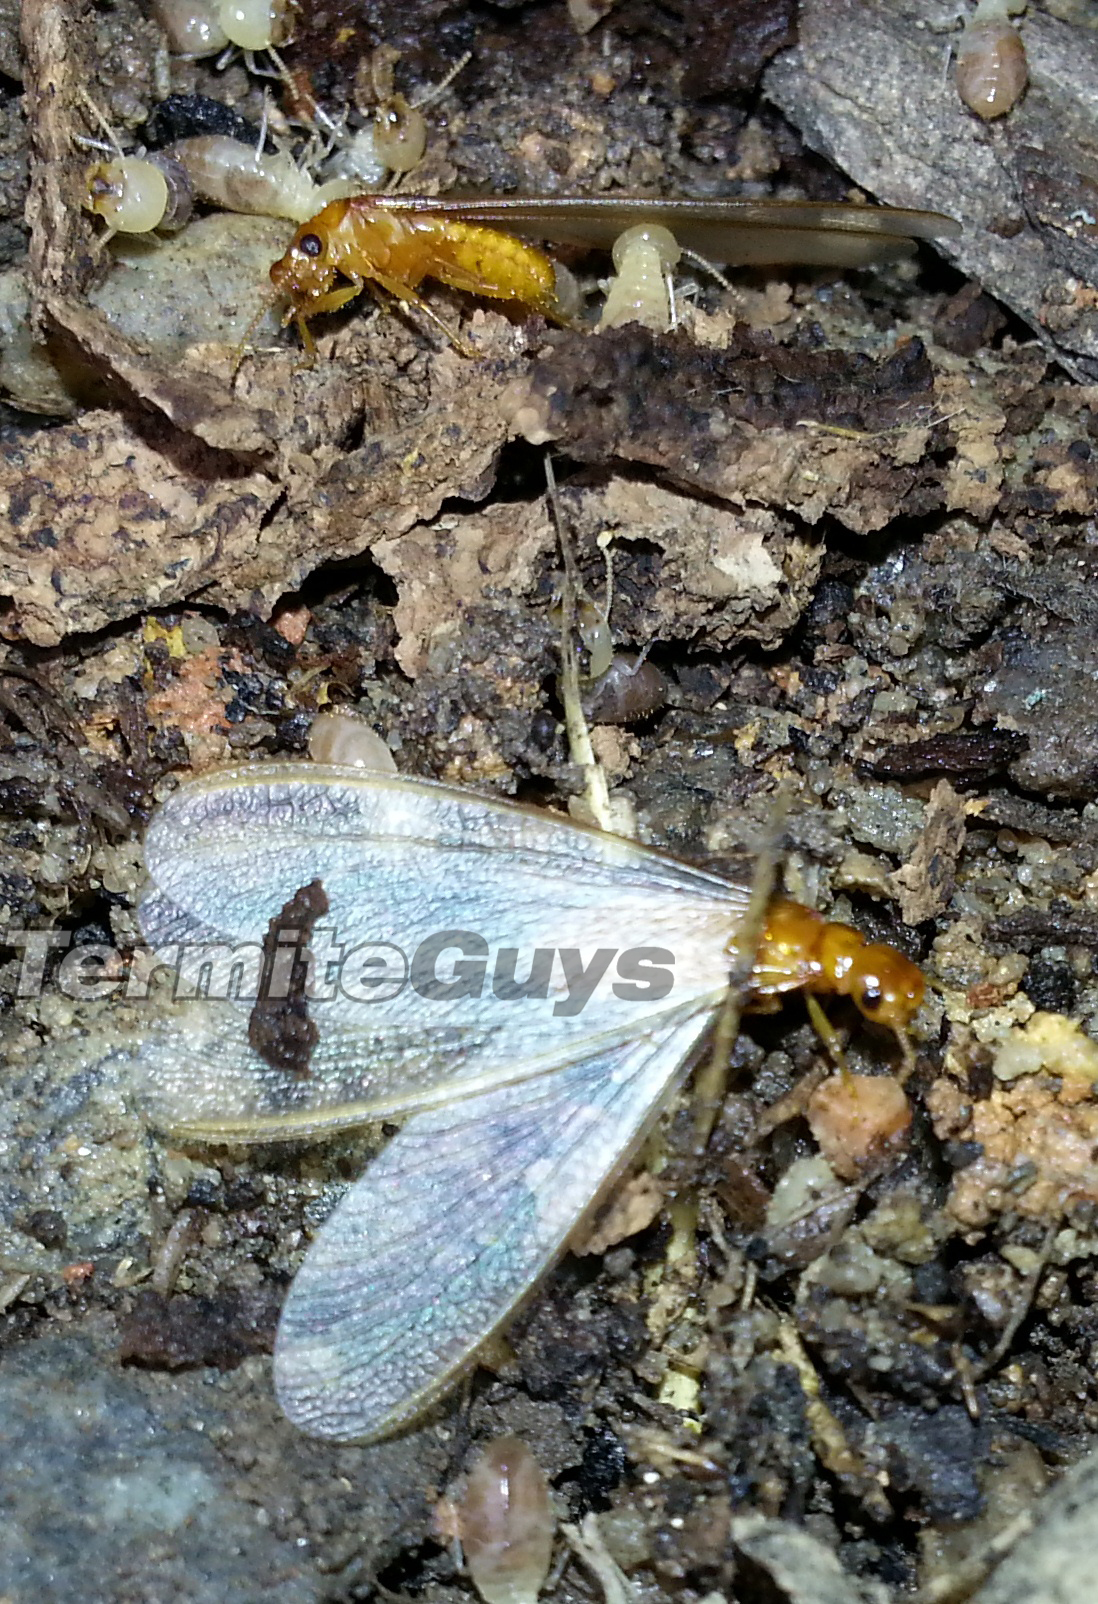flying termite: (225, 158, 993, 395)
